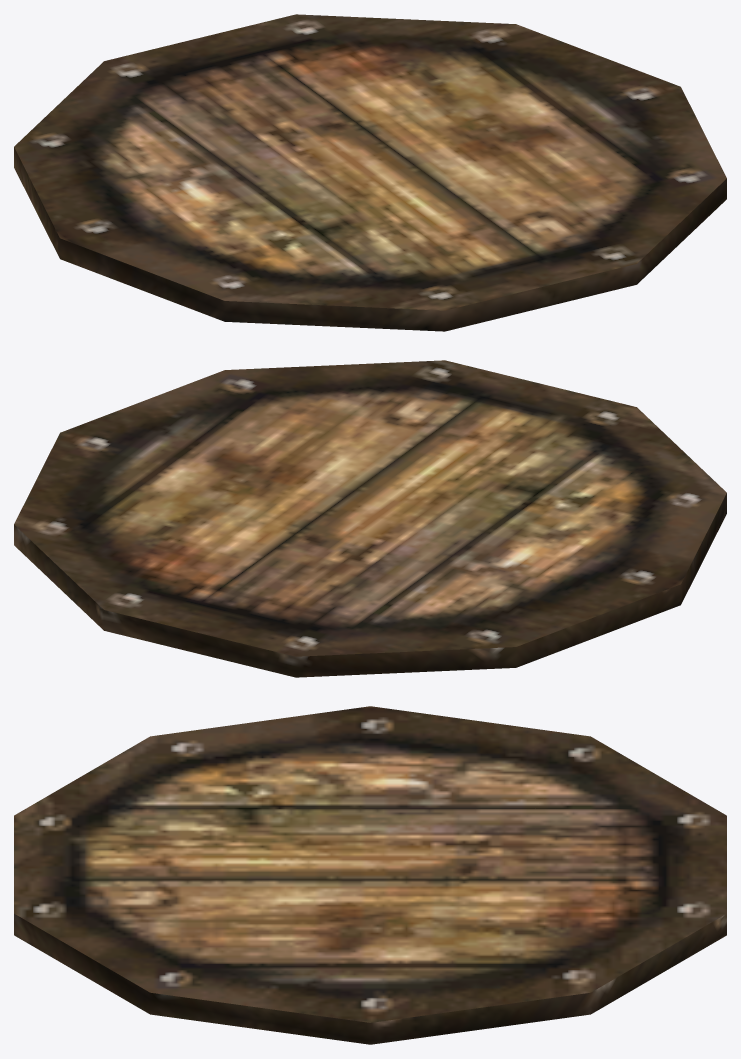
Rendered from mse.glb.
3 renders of one model, top to bottom at view 1: azimuth 30°, elevation 25°; view 2: azimuth 150°, elevation 25°; view 3: azimuth 270°, elevation 25°, orthographic. The views are drawn at different scales.
Parts seen in each view (by area): view 1: mse; view 2: mse; view 3: mse.
Boxes of the visible parts, box(x1,y1,x2,y2) form: mse: box(14, 14, 726, 331); mse: box(14, 360, 726, 677); mse: box(14, 706, 726, 1044).
Bounding box in the file's own units: 0.5224 × 0.0786 × 0.4968.
1 material, 1 textured.
